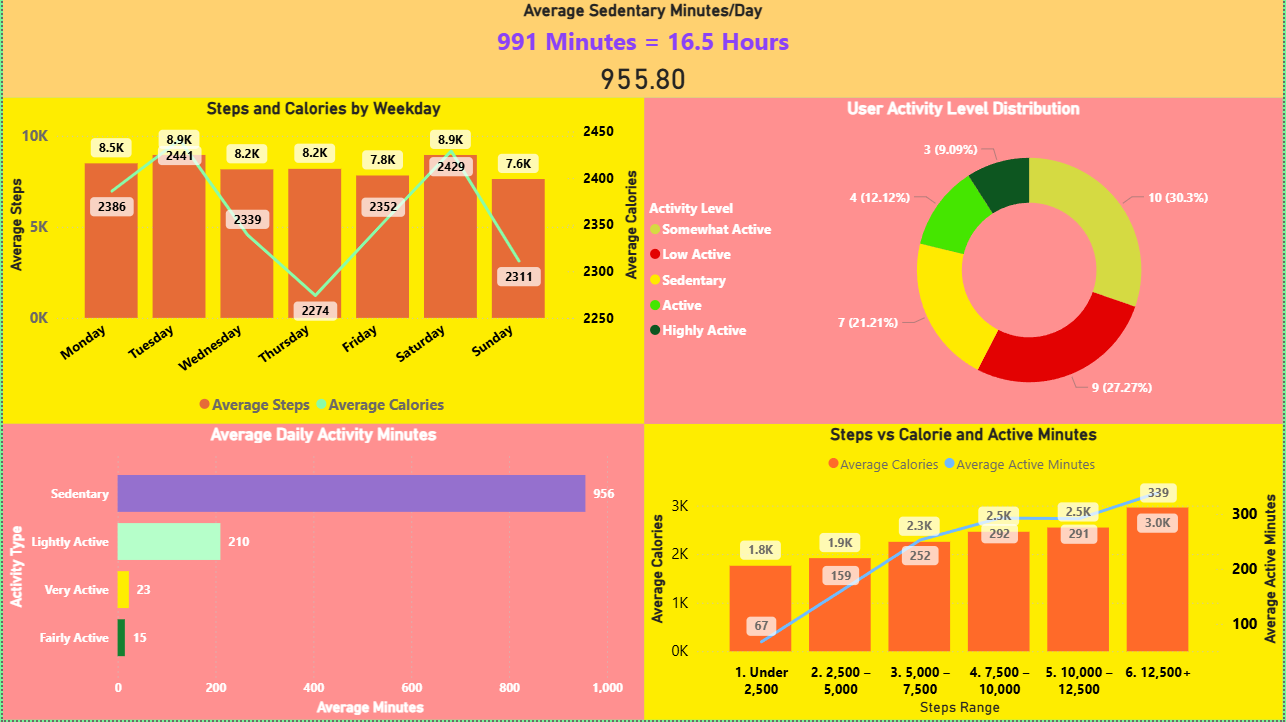

What the dashboard file says about the page in this screenshot:
{"tool":"powerbi","page":{"name":"Activity and Movement","canvas":[1280,720],"ordinal":1},"visuals":[{"type":"lineClusteredColumnComboChart","title":"Steps and Calories by Weekday","fields":{"Category":["average_steps_by_day_of_week.DayOfWeek"],"Y":["Sum(average_steps_by_day_of_week.avg_steps)"],"Y2":["Sum(average_steps_by_day_of_week.avg_calories)"]},"box":[0,97.5,641.2,326.2],"z":0},{"type":"barChart","title":"Average Daily Activity Minutes","fields":{"Category":["activity_by_minutes.Activity Type"],"Y":["Sum(activity_by_minutes.Average Minutes)"]},"box":[0,423.8,641.2,296.2],"z":1000},{"type":"lineClusteredColumnComboChart","title":"Steps vs Calorie and Active Minutes","fields":{"Category":["steps_vs_calories.steps_bucket"],"Y":["Sum(steps_vs_calories.avg_calories)"],"Y2":["Sum(steps_vs_calories.avg_active_mins)"]},"box":[641.2,423.8,638.8,296.2],"z":2000},{"type":"donutChart","title":"User Activity Level Distribution","fields":{"Category":["activity_level_distribution.activity_level"],"Y":["CountNonNull(activity_level_classification.Id)"]},"box":[641.2,97.5,638.8,326.2],"z":3000},{"type":"card","title":"Average Sedentary Minutes/Day","fields":{"Values":["Sum(activity_summary.avg_sedentary_mins)"]},"box":[0,0,1280,97.5],"z":4000}]}

Visuals, with their boxes in screenshot pixels (x1, y1, x2, y2), scaled from the page's 1280x720 canvas onto the 1286x722 screenshot:
"Steps and Calories by Weekday" lineClusteredColumnComboChart: [0, 98, 644, 425]
"Average Daily Activity Minutes" barChart: [0, 425, 644, 721]
"Steps vs Calorie and Active Minutes" lineClusteredColumnComboChart: [644, 425, 1285, 721]
"User Activity Level Distribution" donutChart: [644, 98, 1285, 425]
"Average Sedentary Minutes/Day" card: [0, 0, 1285, 98]
